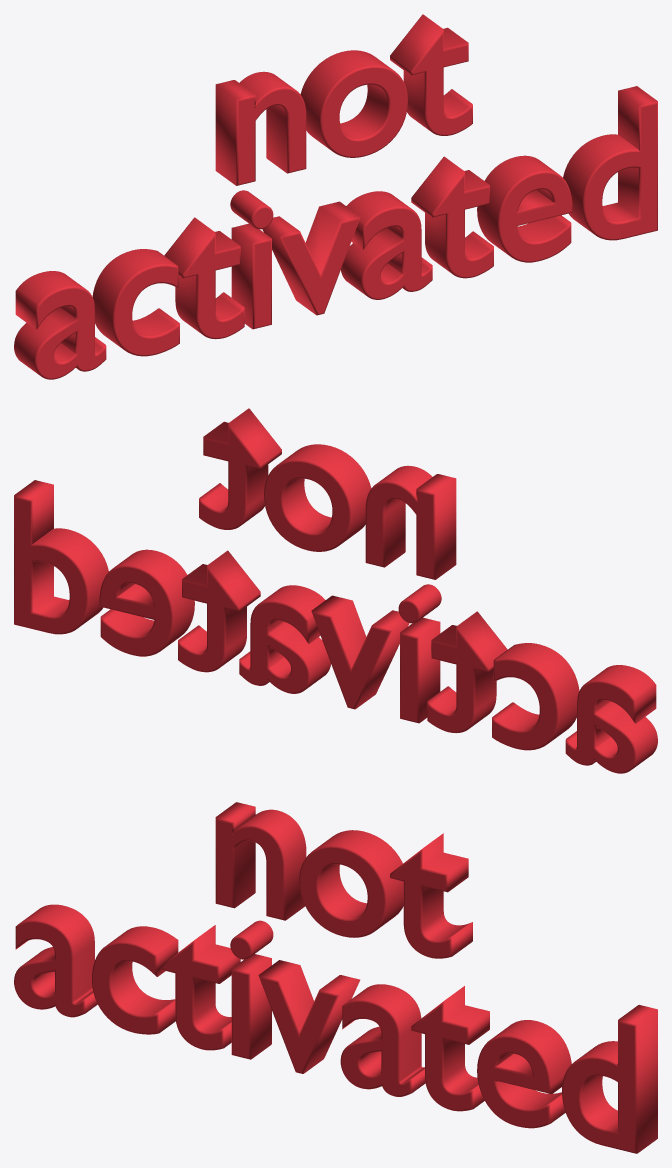
The model's file is nactive.glb.
3 views of the same model, one above another, from view 1: azimuth 30°, elevation 25°; view 2: azimuth 150°, elevation 25°; view 3: azimuth 330°, elevation 25° (orthographic).
Visible parts, largest first — view 1: Text; view 2: Text; view 3: Text.
Part boxes in pixels (x1,y1,x2,y2): Text: (14,14,657,379); Text: (14,408,657,773); Text: (14,802,657,1153).
Size of the model in its own units: 3.54 by 1.38 by 0.22.
